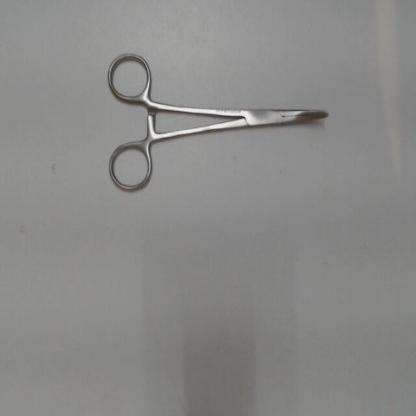Crile Artery Forceps: (105, 44, 335, 192)
